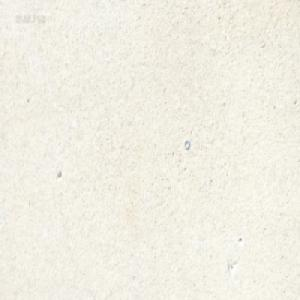Washer: (183, 139, 189, 150)
